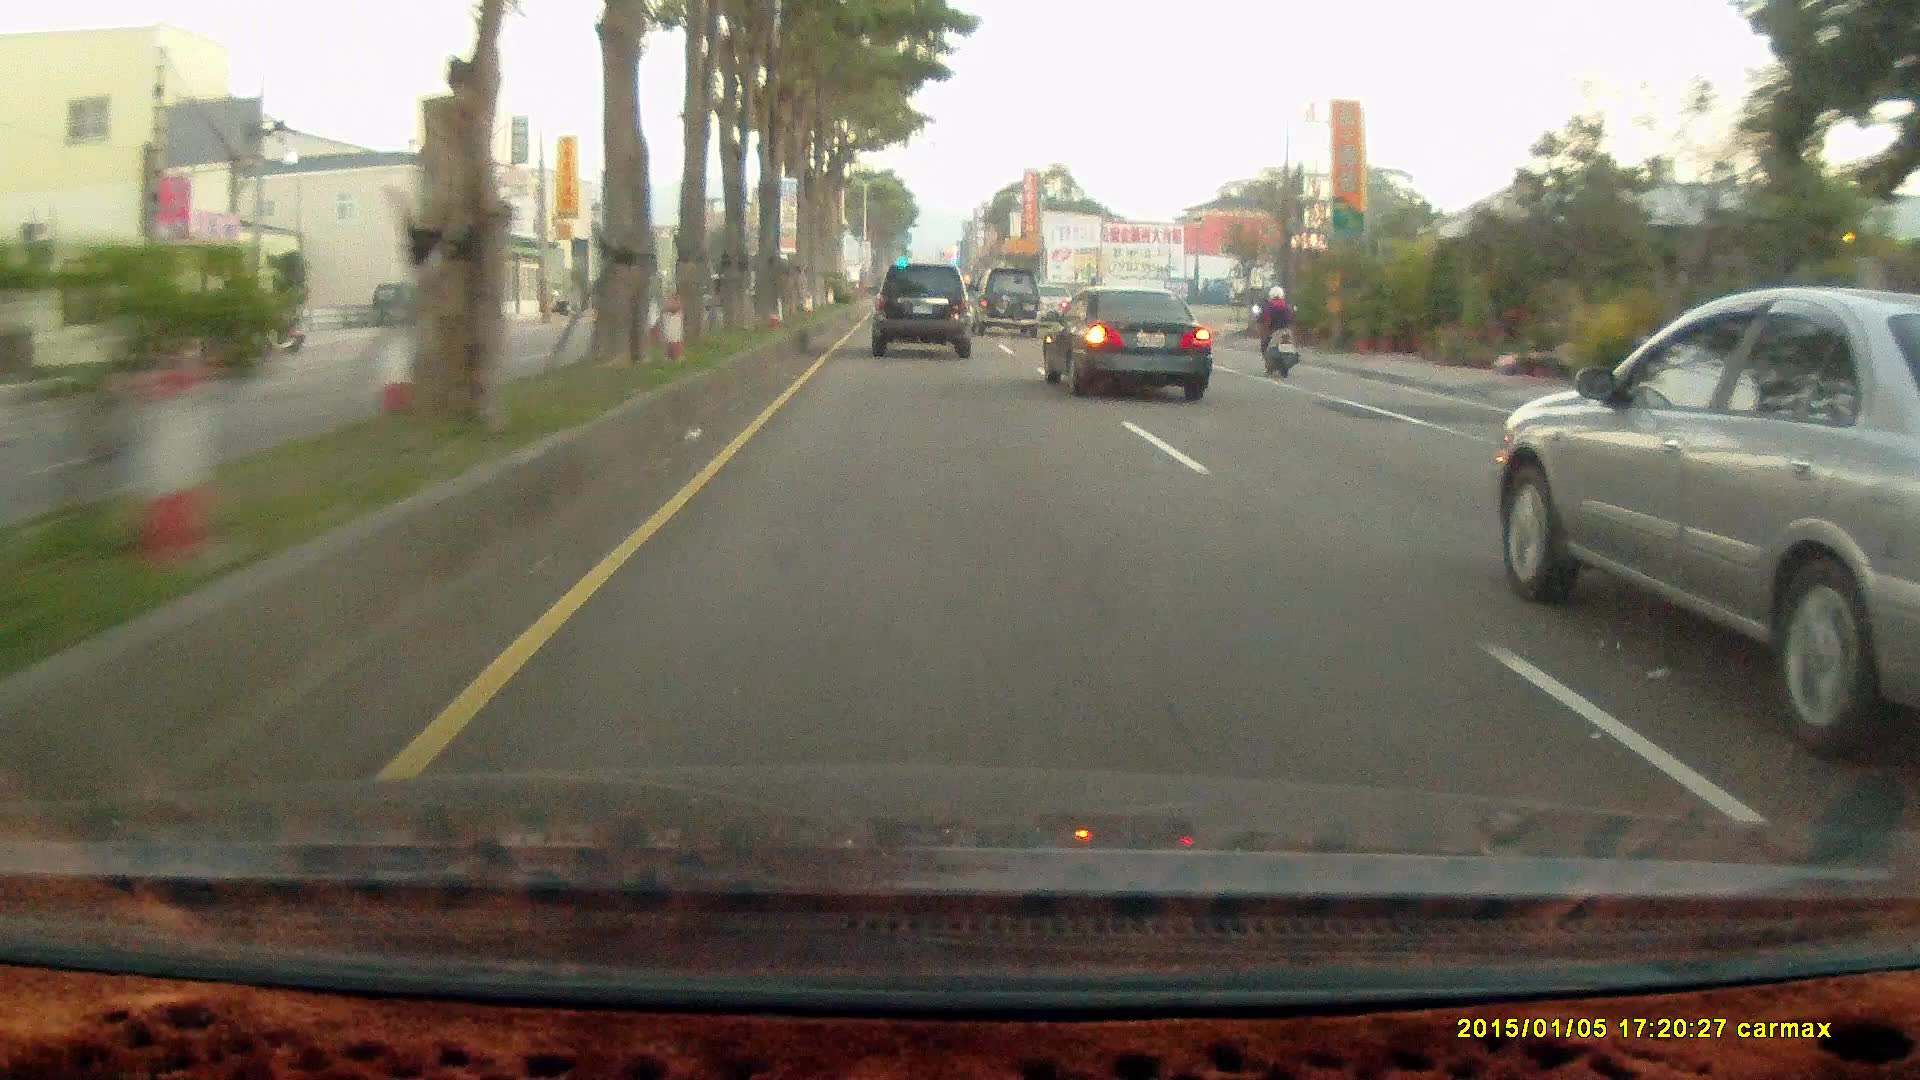rider: (1245, 276, 1311, 389), (1246, 282, 1300, 378)
vehicle: (1480, 292, 1918, 769), (1038, 291, 1215, 406), (1040, 286, 1211, 404), (869, 263, 974, 360), (868, 264, 971, 360), (968, 272, 1042, 344), (968, 264, 1042, 335), (368, 280, 460, 327)
